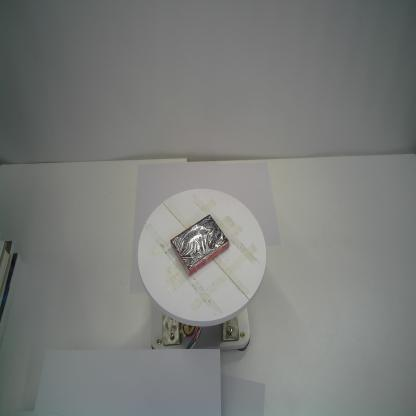Gum: (168, 211, 230, 277)
